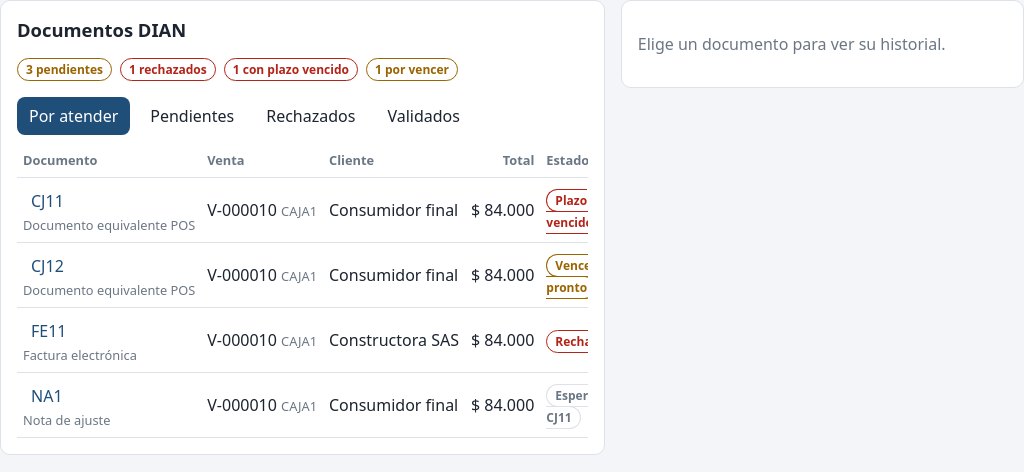
Test: bandeja de documentos DIAN › sin sales.void no se ofrece reintentar
The width and height of the screenshot is (1024, 472).
Click the button "FE11" at (49, 331), box x1=23 y1=316 x2=74 y2=346
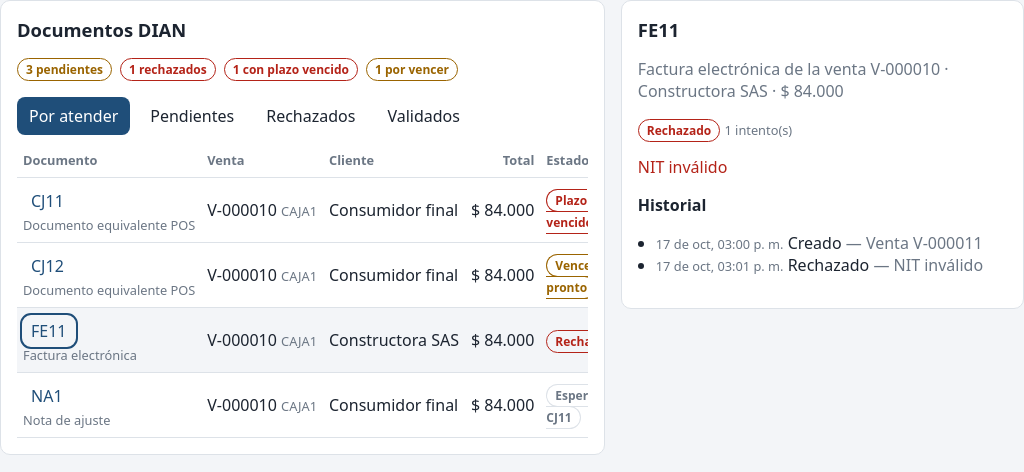
Now the heading "FE11" is shown, box x1=638 y1=17 x2=679 y2=42
